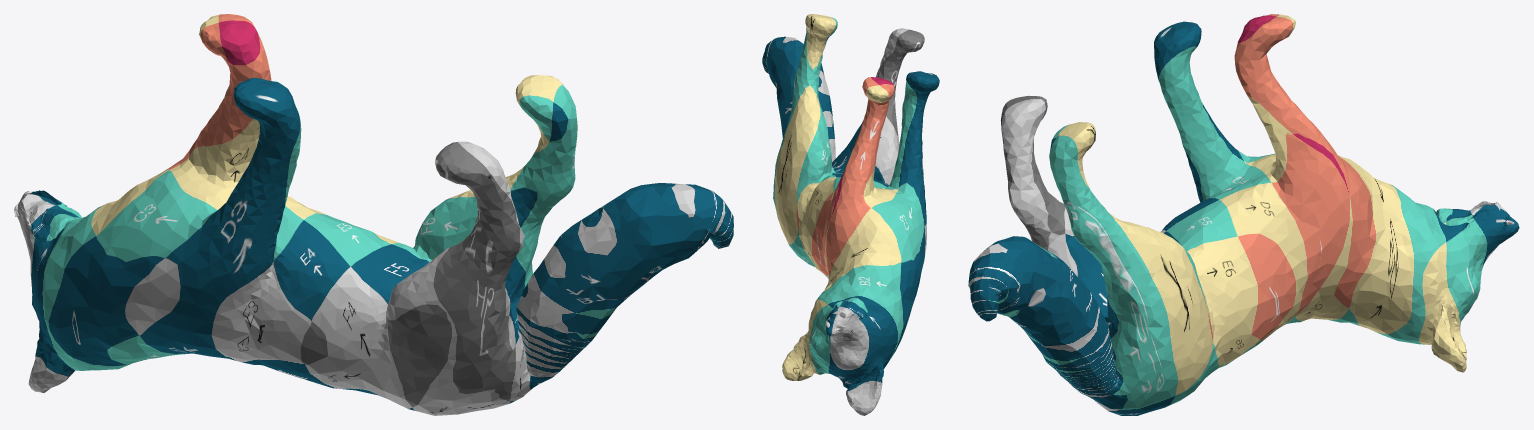
The model's file is cow_04-fox_01.obj.
3 renders of one model, left to right at view 1: azimuth 30°, elevation 25°; view 2: azimuth 150°, elevation 25°; view 3: azimuth 270°, elevation 25°, orthographic. The views are drawn at different scales.
Parts seen in each view (by area): view 1: cow_04-fox_01_export; view 2: cow_04-fox_01_export; view 3: cow_04-fox_01_export.
Boxes of the visible parts, x1,y1,x2,y2 form: cow_04-fox_01_export: (14,14,733,415); cow_04-fox_01_export: (762,14,939,415); cow_04-fox_01_export: (968,14,1519,415).
Size of the model in its own units: 0.6995 by 0.6346 by 0.8544.
